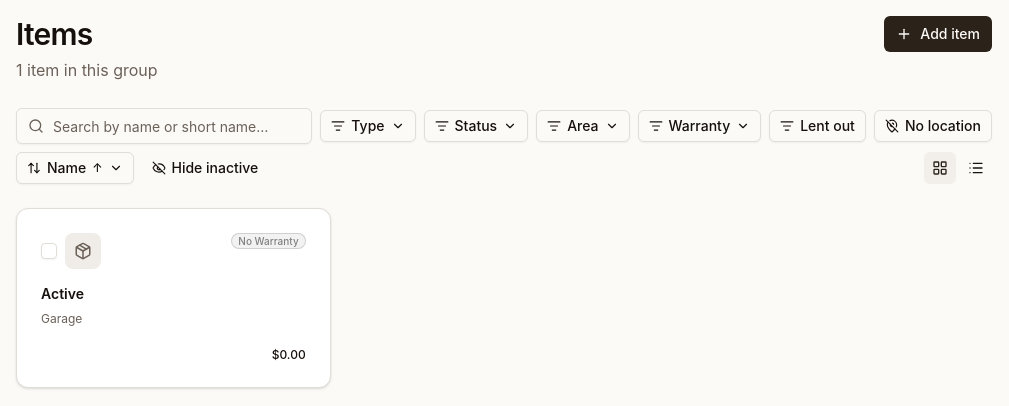
Scenario: <CommoditiesListPage /> › toggles include-inactive via the toolbar button
Check: the element with test id "commodity-card" is shown, box [16,208,331,388]
Click the button with test id "commodities-toggle-inactive".
click(205, 168)  # box [142,152,268,184]
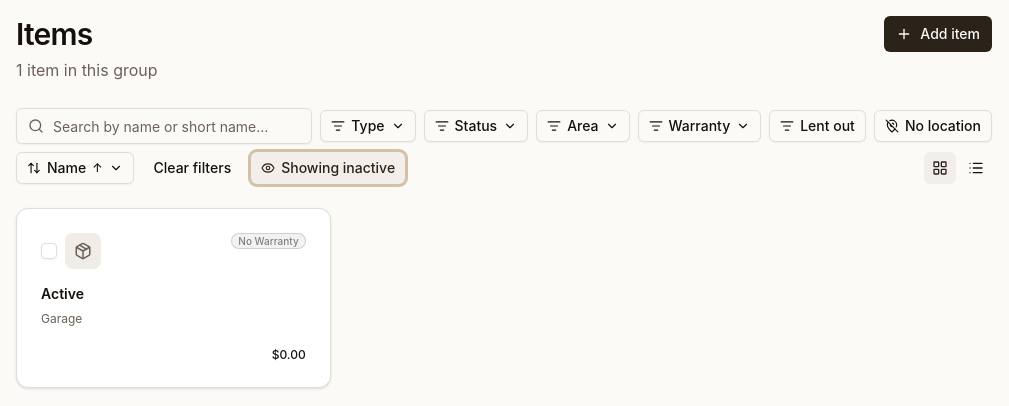
Check: the button with test id "commodities-toggle-inactive" reads "Showing inactive", box [251,152,405,184]
